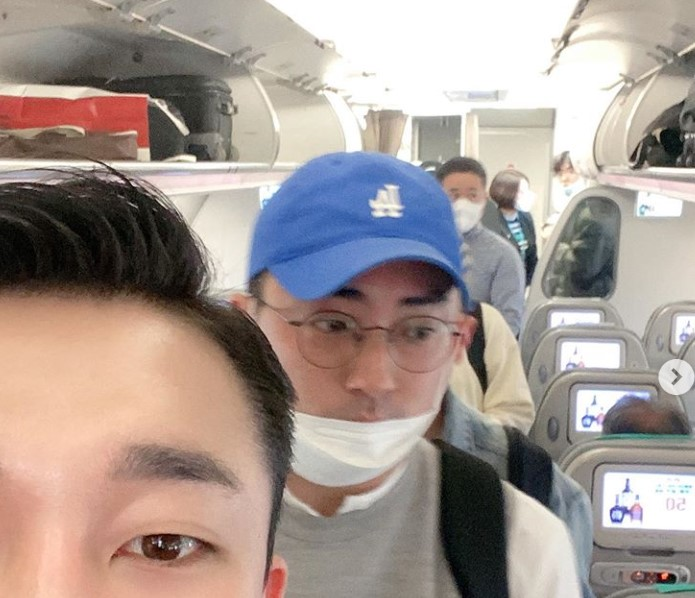face_with_mask: (243, 152, 480, 488), (439, 158, 485, 232)
